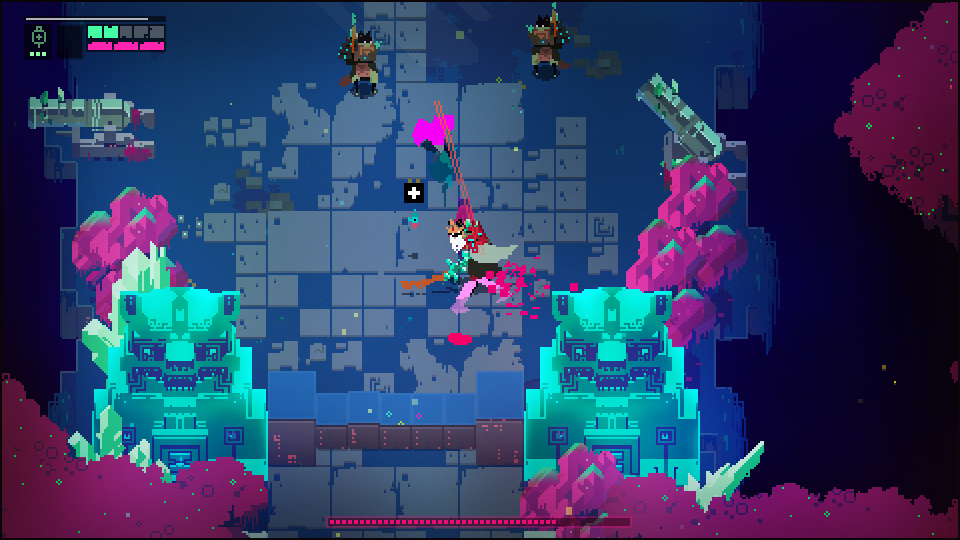hanged_man: (437, 217, 520, 292)
player: (408, 108, 458, 160)
